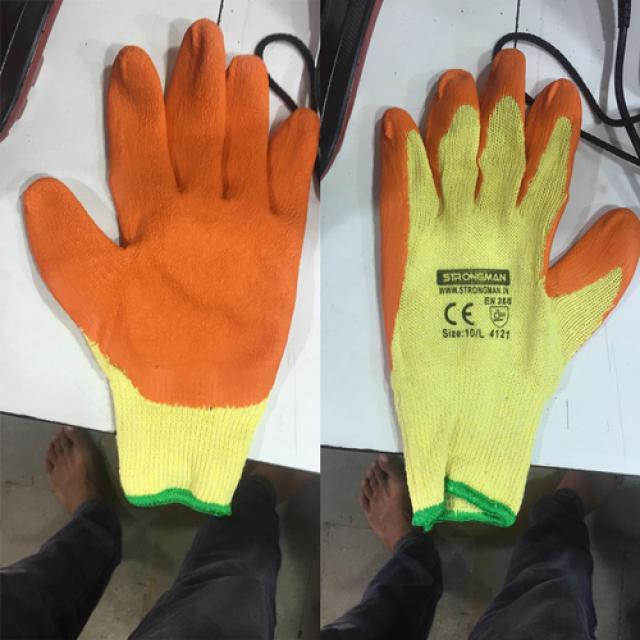gloves: (20, 16, 320, 514), (372, 45, 640, 534)
